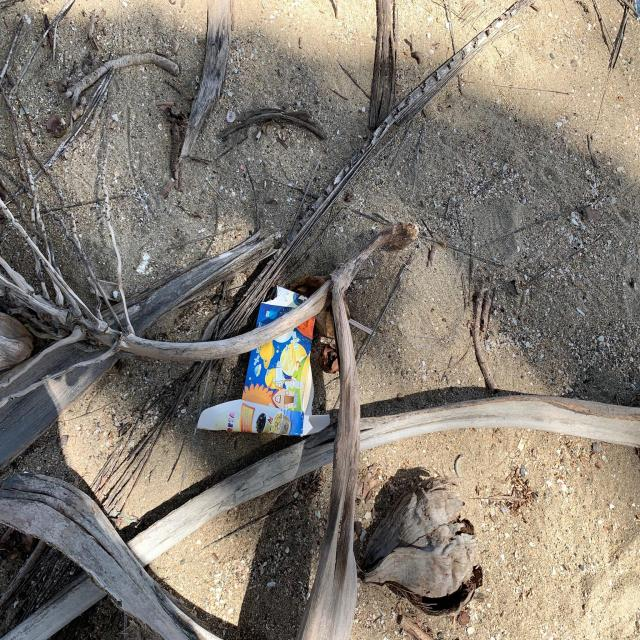litter: (194, 285, 328, 437)
